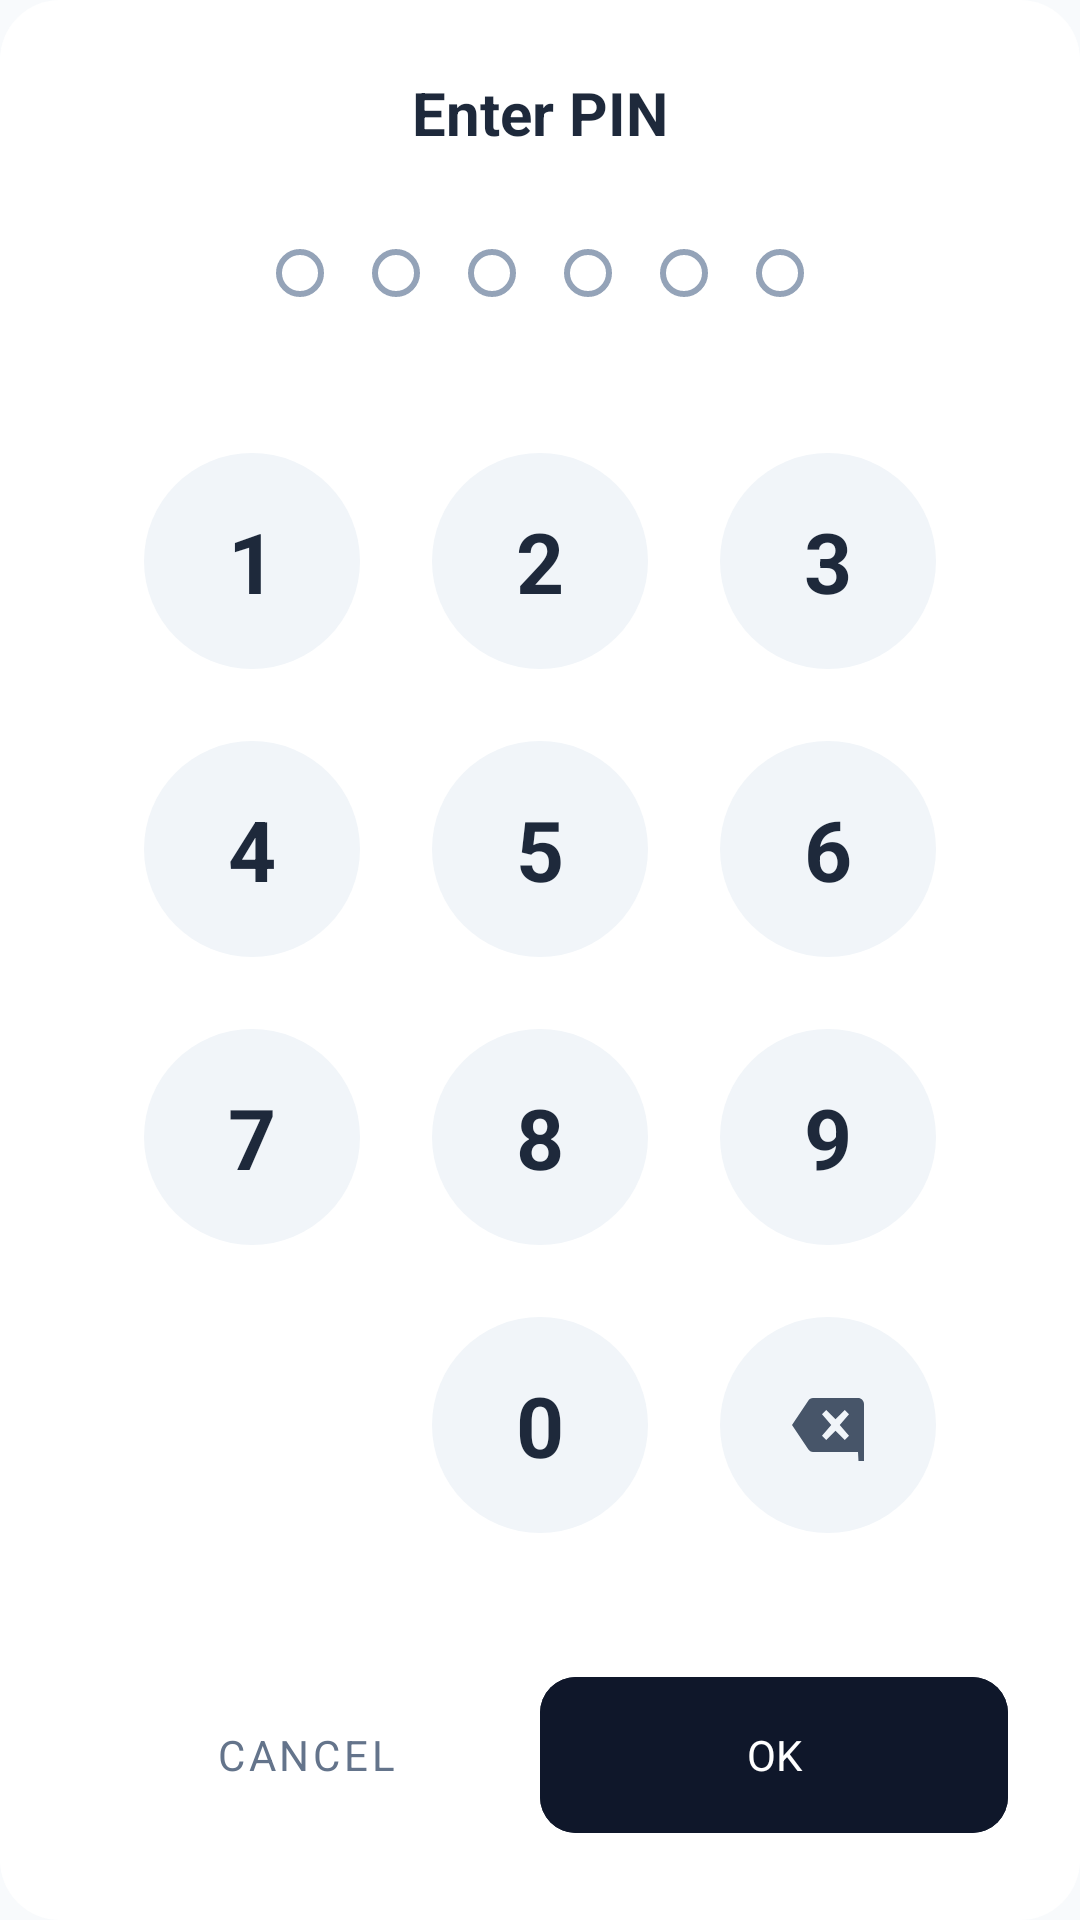

Where icons sit on this 1080 × 1920 app screen, as region(x1, y1, x2, y2):
backspace: region(792, 1398, 864, 1461)
